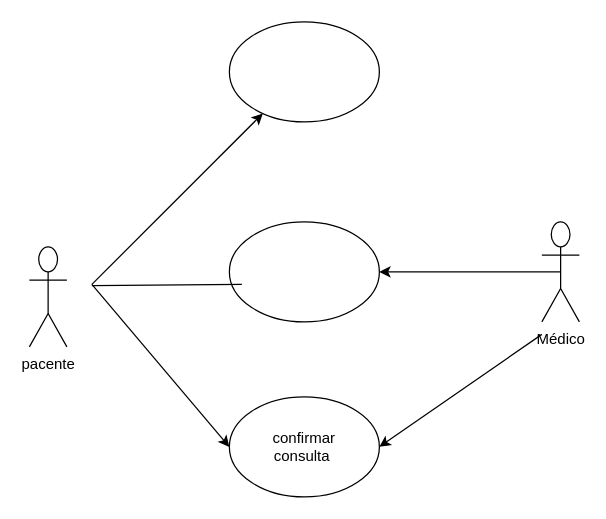
Image size: 606x519. Some labels were removed from this diagram. The centre of each missing label's shape, as x and y in pixels:
"agendar a consulta" belongs at (x=303, y=71).
"desmacar consulta" belongs at (x=303, y=271).
